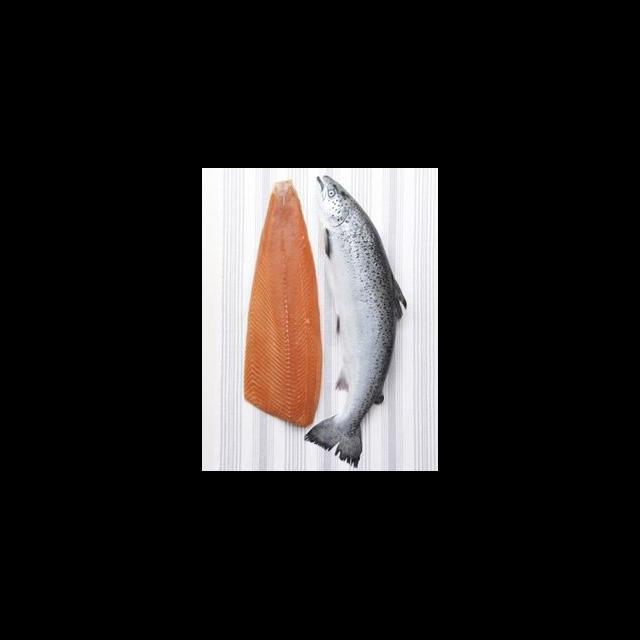fish: (237, 172, 329, 433)
